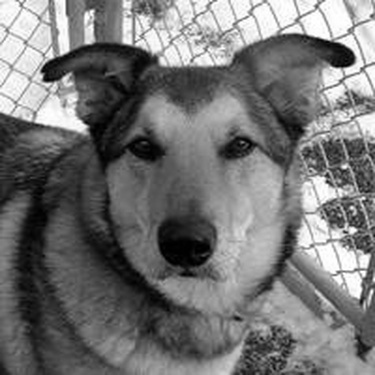dog: (3, 29, 355, 369)
